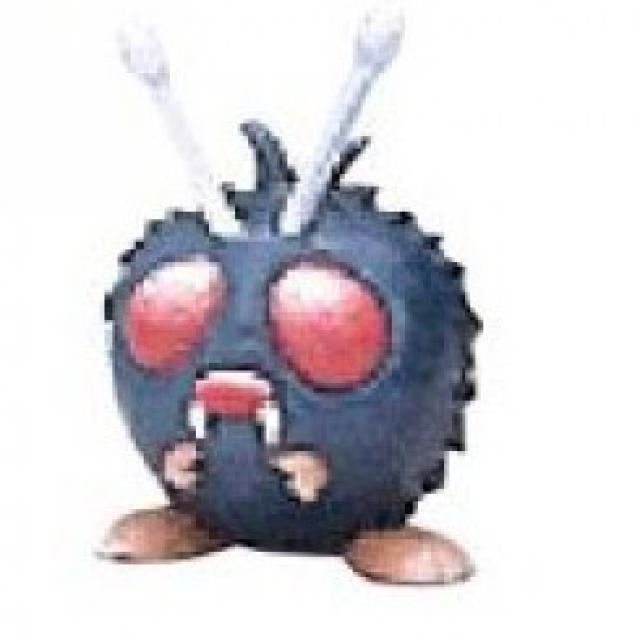Venonat: (90, 11, 478, 574)
